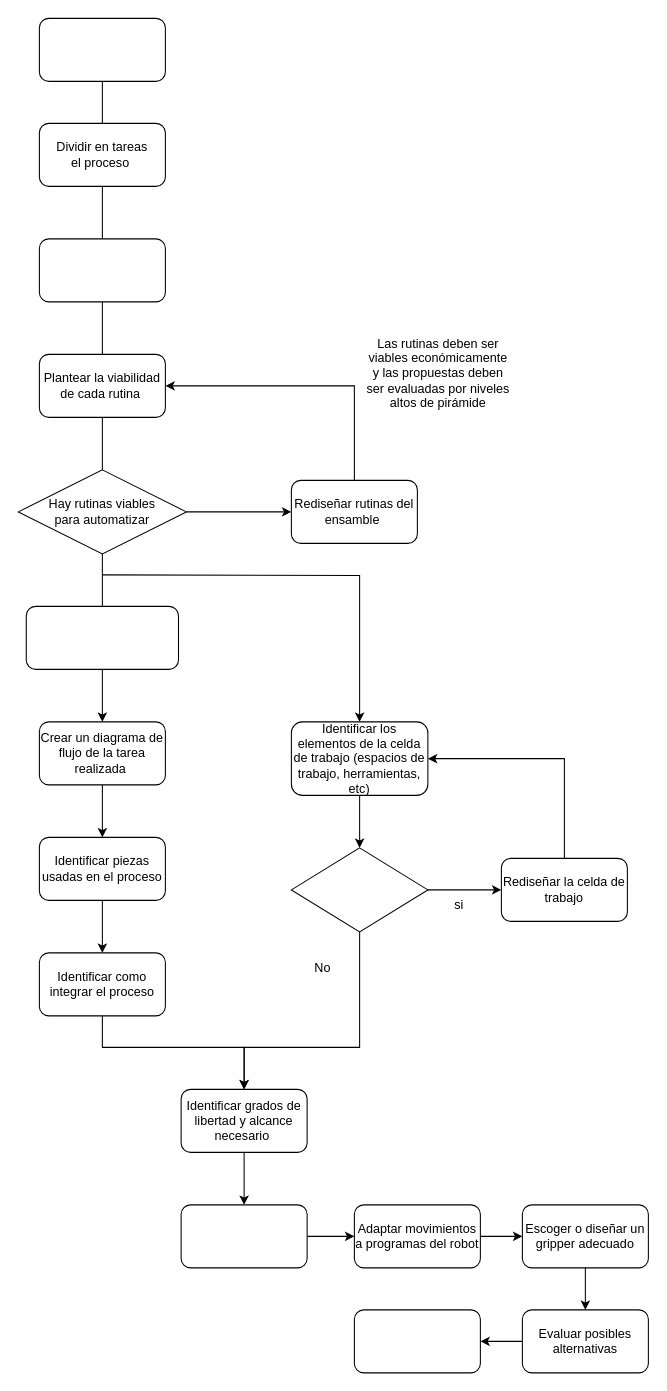
This 667x1391 diagram has some shape labels left out. Each missing label, with the box of its shape:
Crear rutinas para cada tarea: (38, 238, 165, 302)
Escoger robots, sensores y controladores: (180, 1204, 307, 1268)
Examinar el proceso: (38, 17, 165, 81)
Hay ineficiencias en las celdas?: (290, 847, 428, 932)
Identificar habilidades cognitivas y motoras de las rutinas: (25, 605, 178, 669)
Implementar: (353, 1309, 480, 1373)
